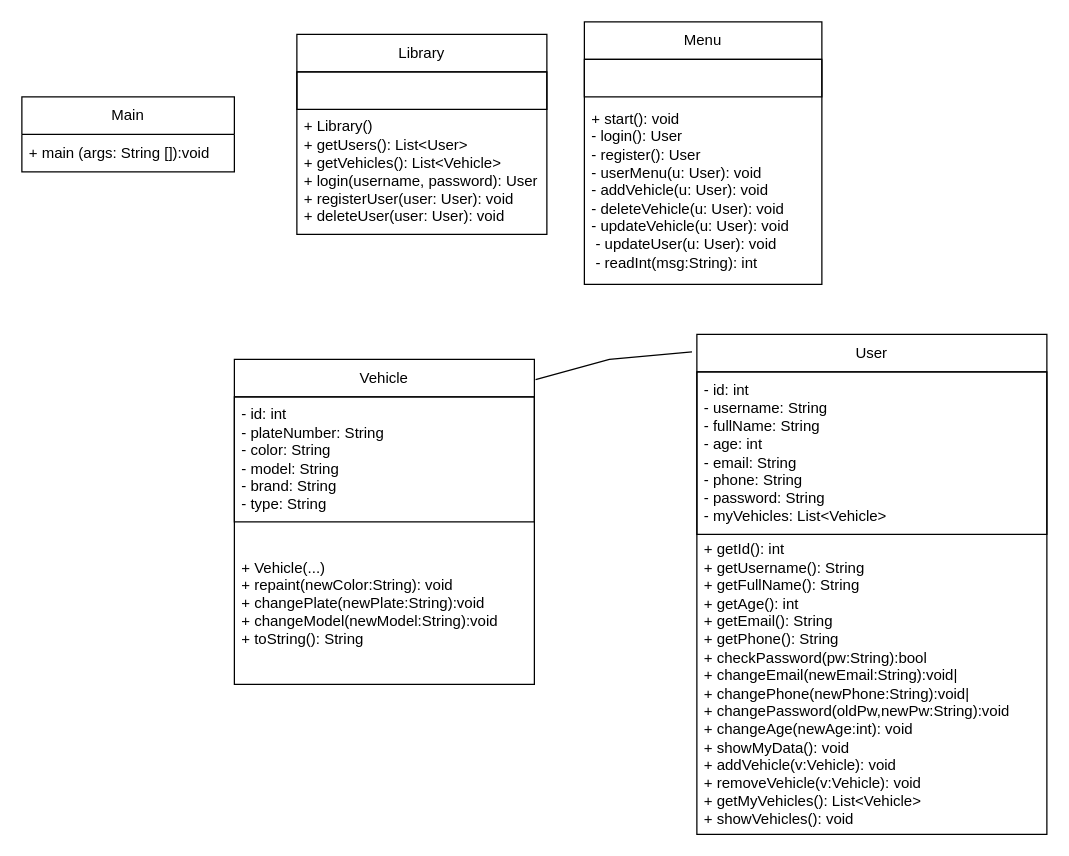
Image size: 1069x856. Some labels were removed from this diagram. The centre of each missing label's shape, as x and y in pixels:
- library: Library - scanner: Scanner: (702,77)
- users: List<User> - vehicles: List<Vehicle>: (421,90)
